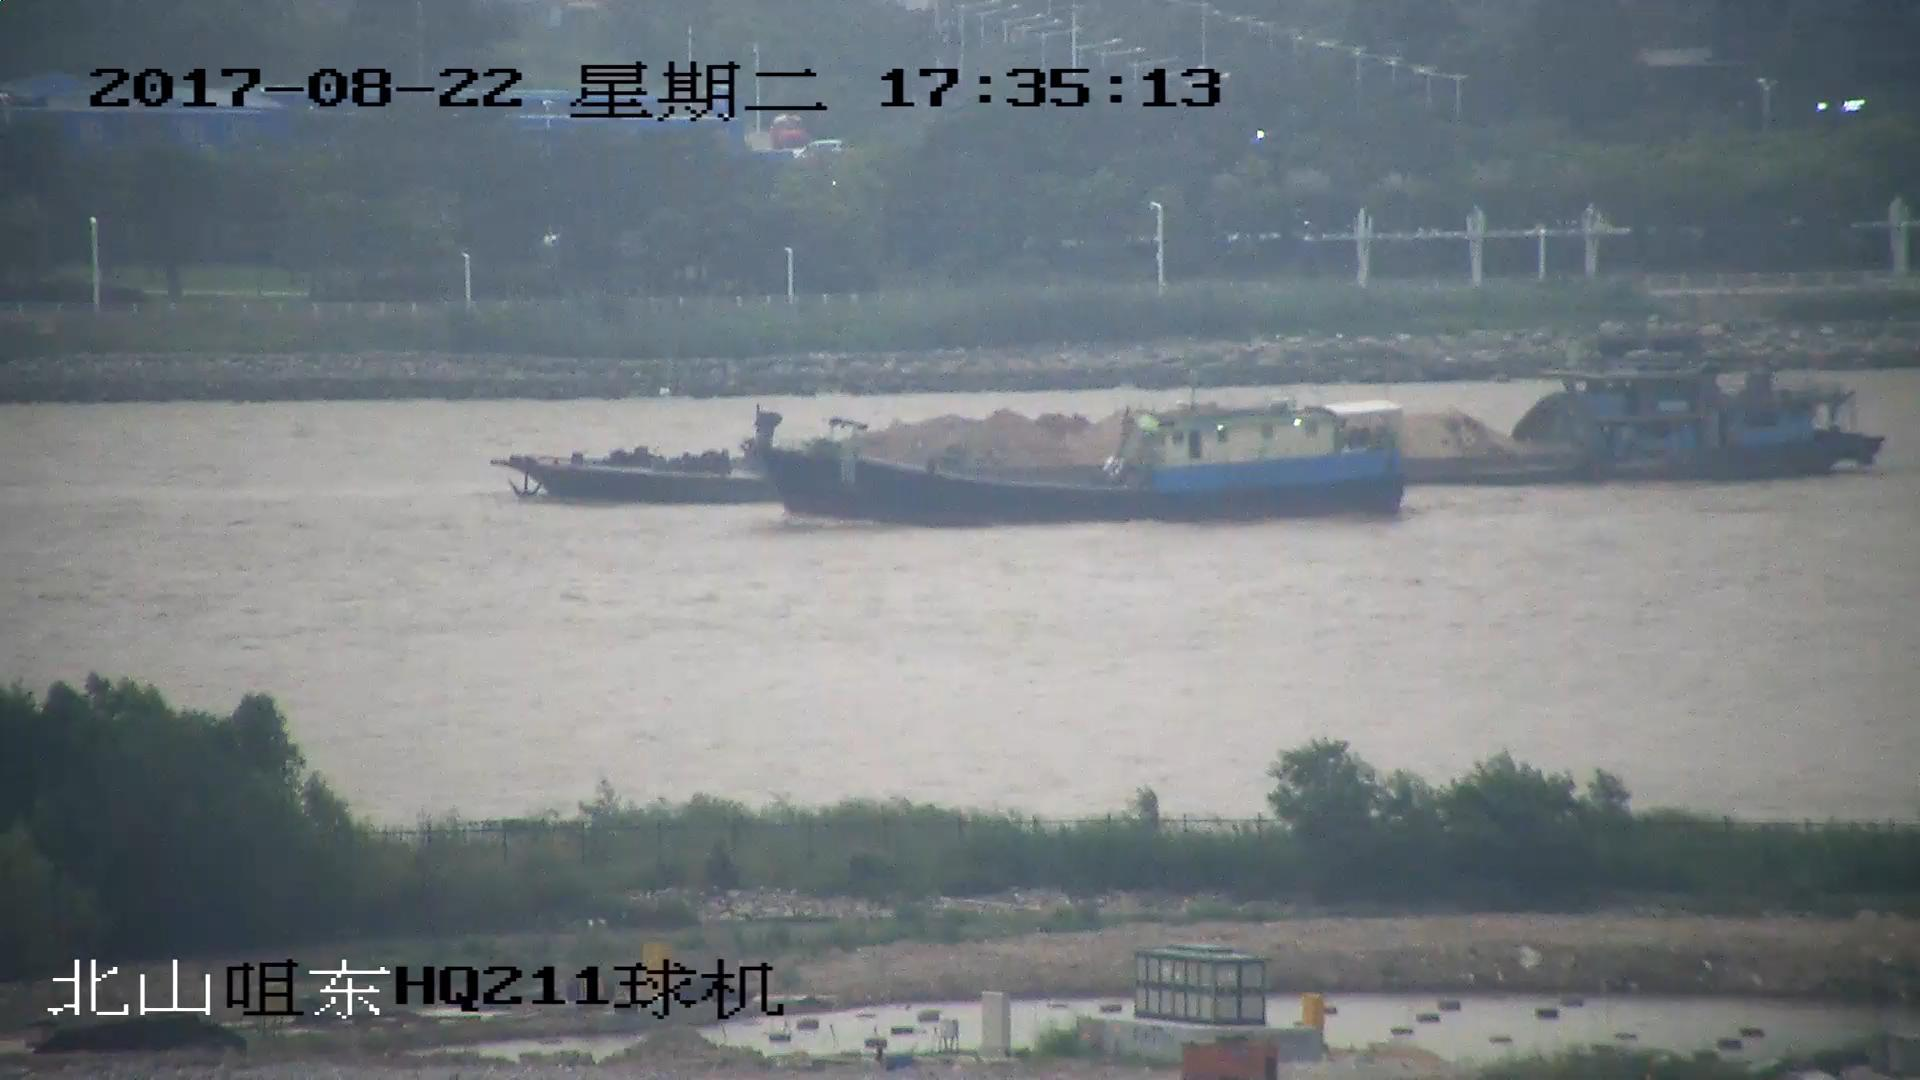Ship: (500, 357, 1880, 506), (758, 385, 1403, 521)
